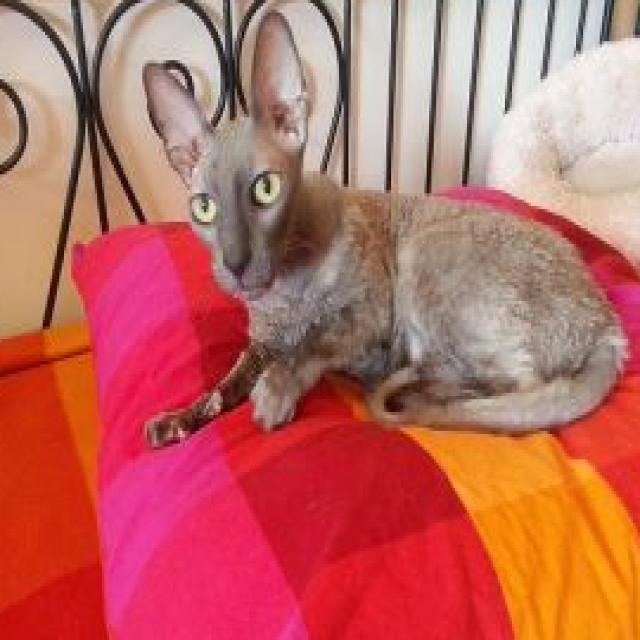Cornish Rex: (137, 1, 635, 453)
